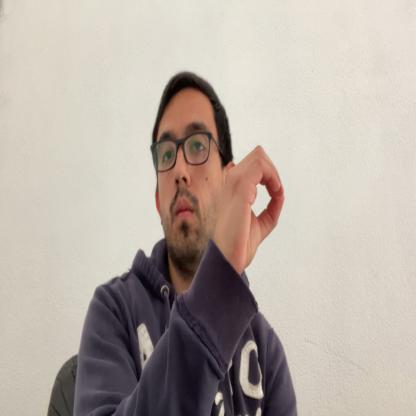O: (218, 143, 284, 269)
